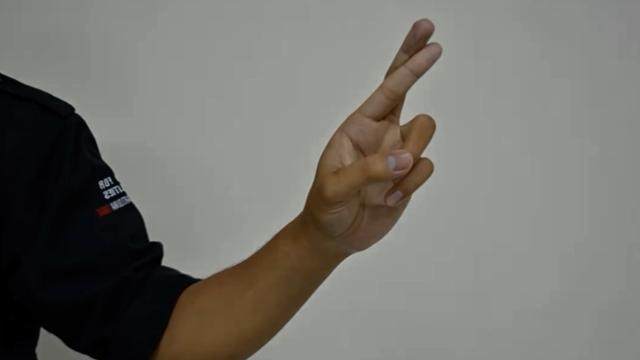R: (296, 10, 446, 264)
